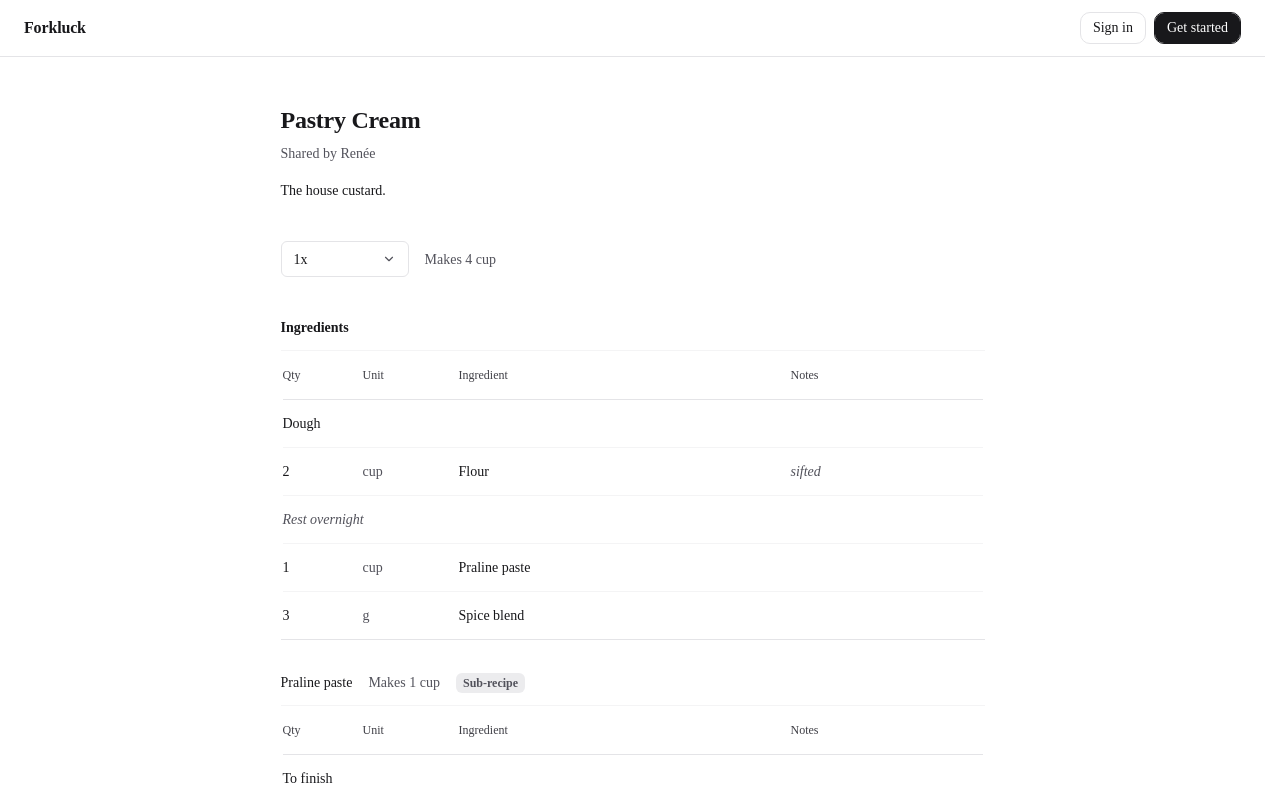
Test: guest recipe view › doubles the lines and the yield at 2x
The image size is (1280, 800).
Click the button named "Batch size": (344, 259) top-left (280, 241), bottom-right (408, 277)
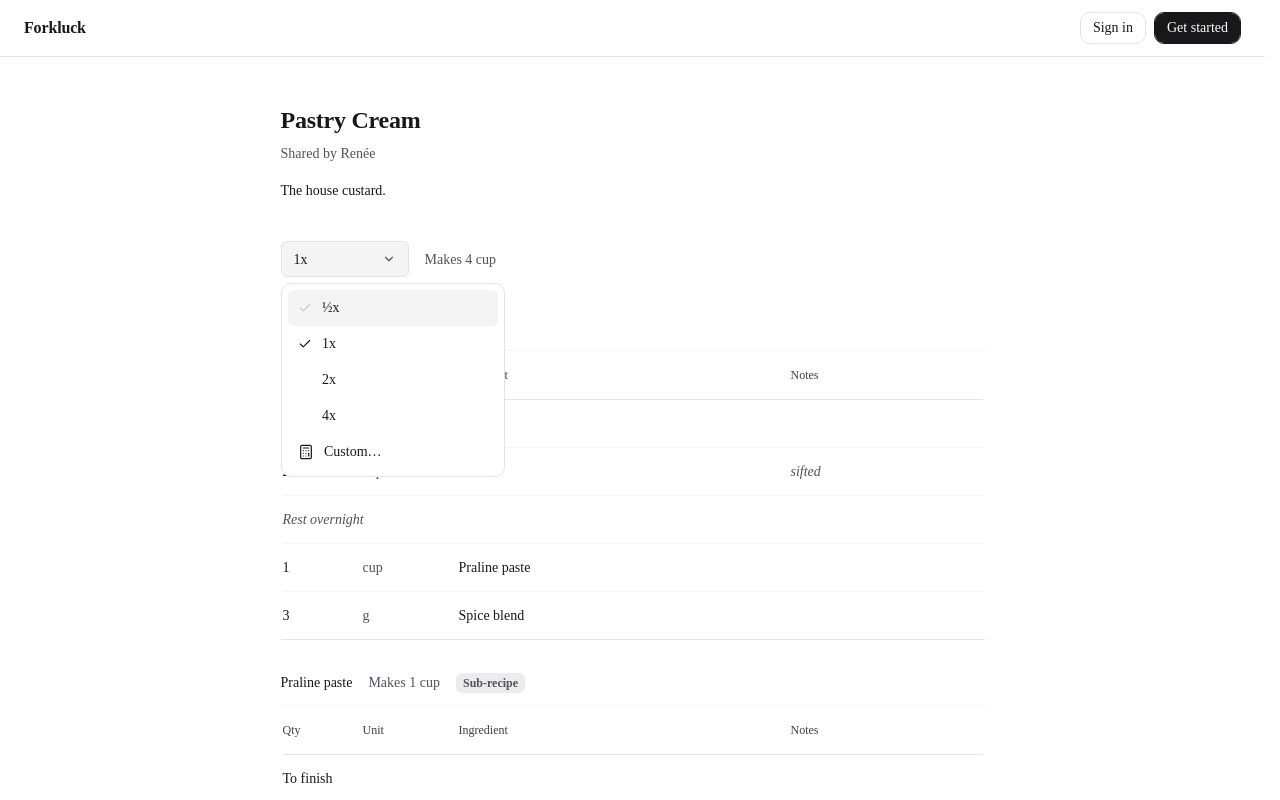
Click the menu item "2x": (329, 380) top-left (322, 372), bottom-right (336, 387)
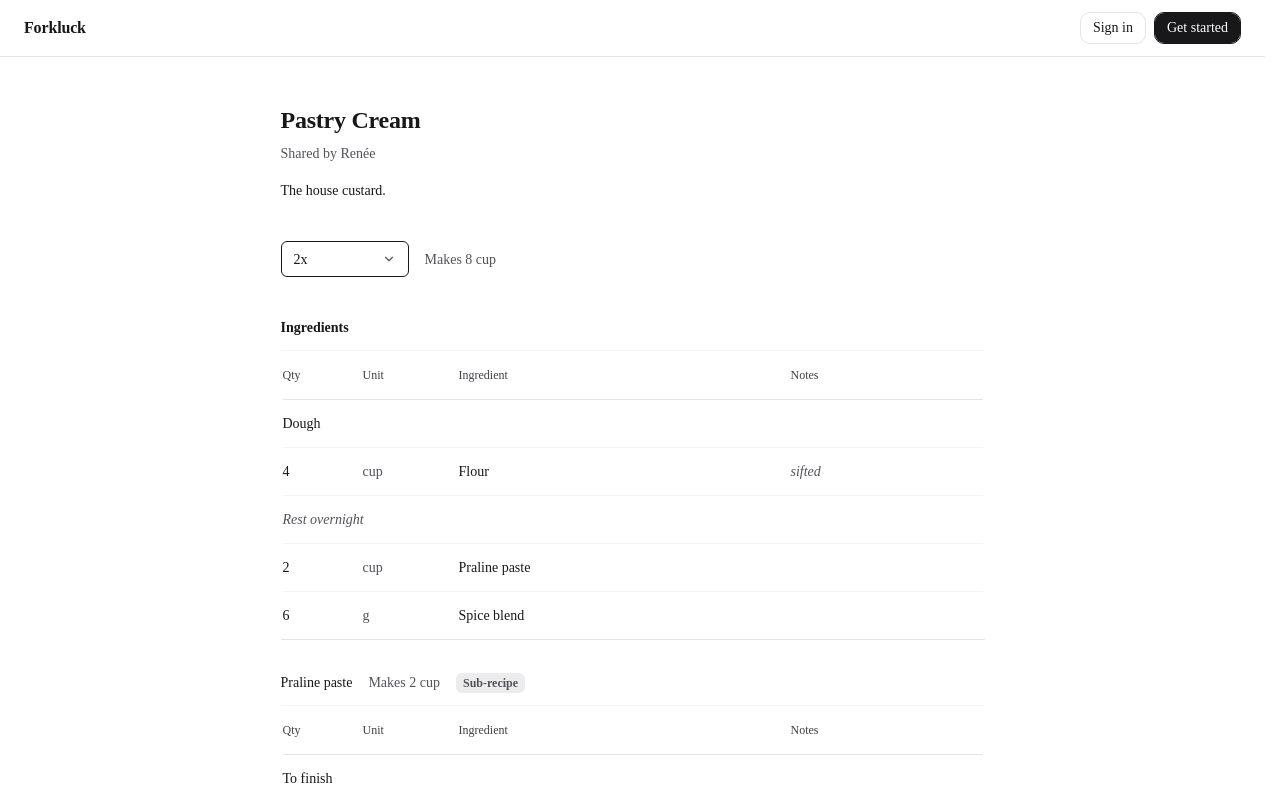
Expected: the text "4" is shown, top-left (282, 447), bottom-right (362, 495)
Expected: the text "Makes 8 cup" is shown, top-left (424, 248), bottom-right (496, 270)
